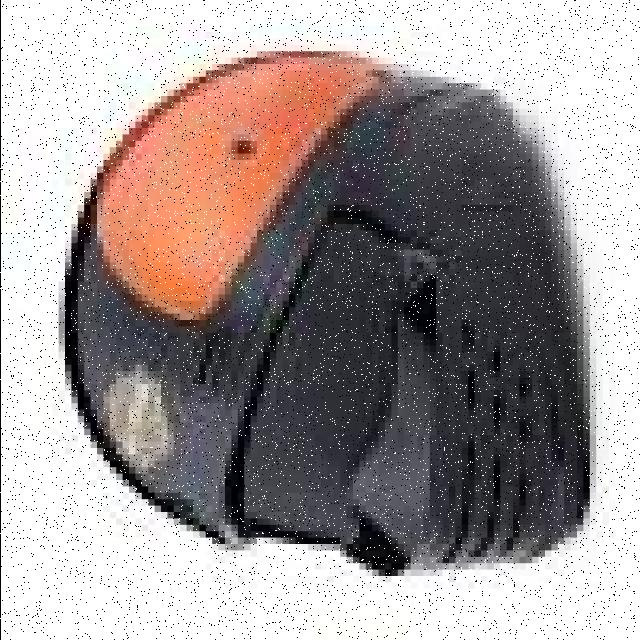Helmet: (65, 55, 582, 574)
